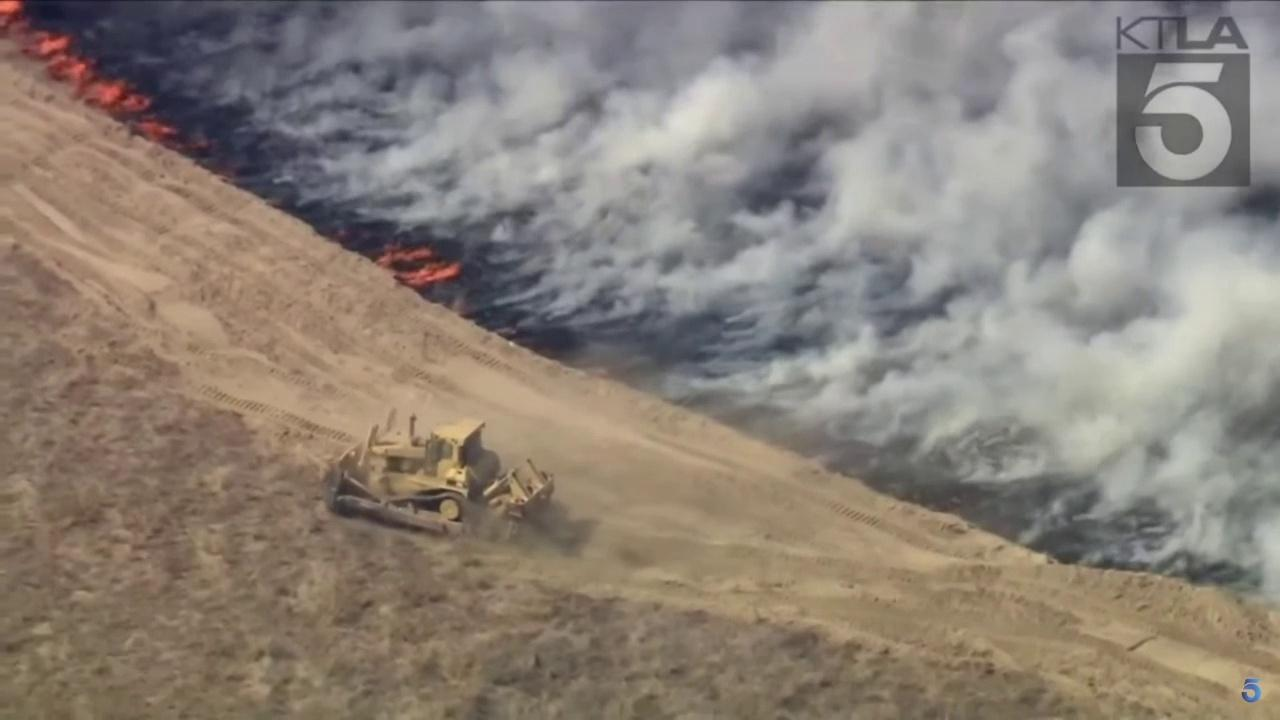fire: (0, 1, 180, 153), (372, 242, 464, 288)
smoke: (0, 0, 1280, 596)
